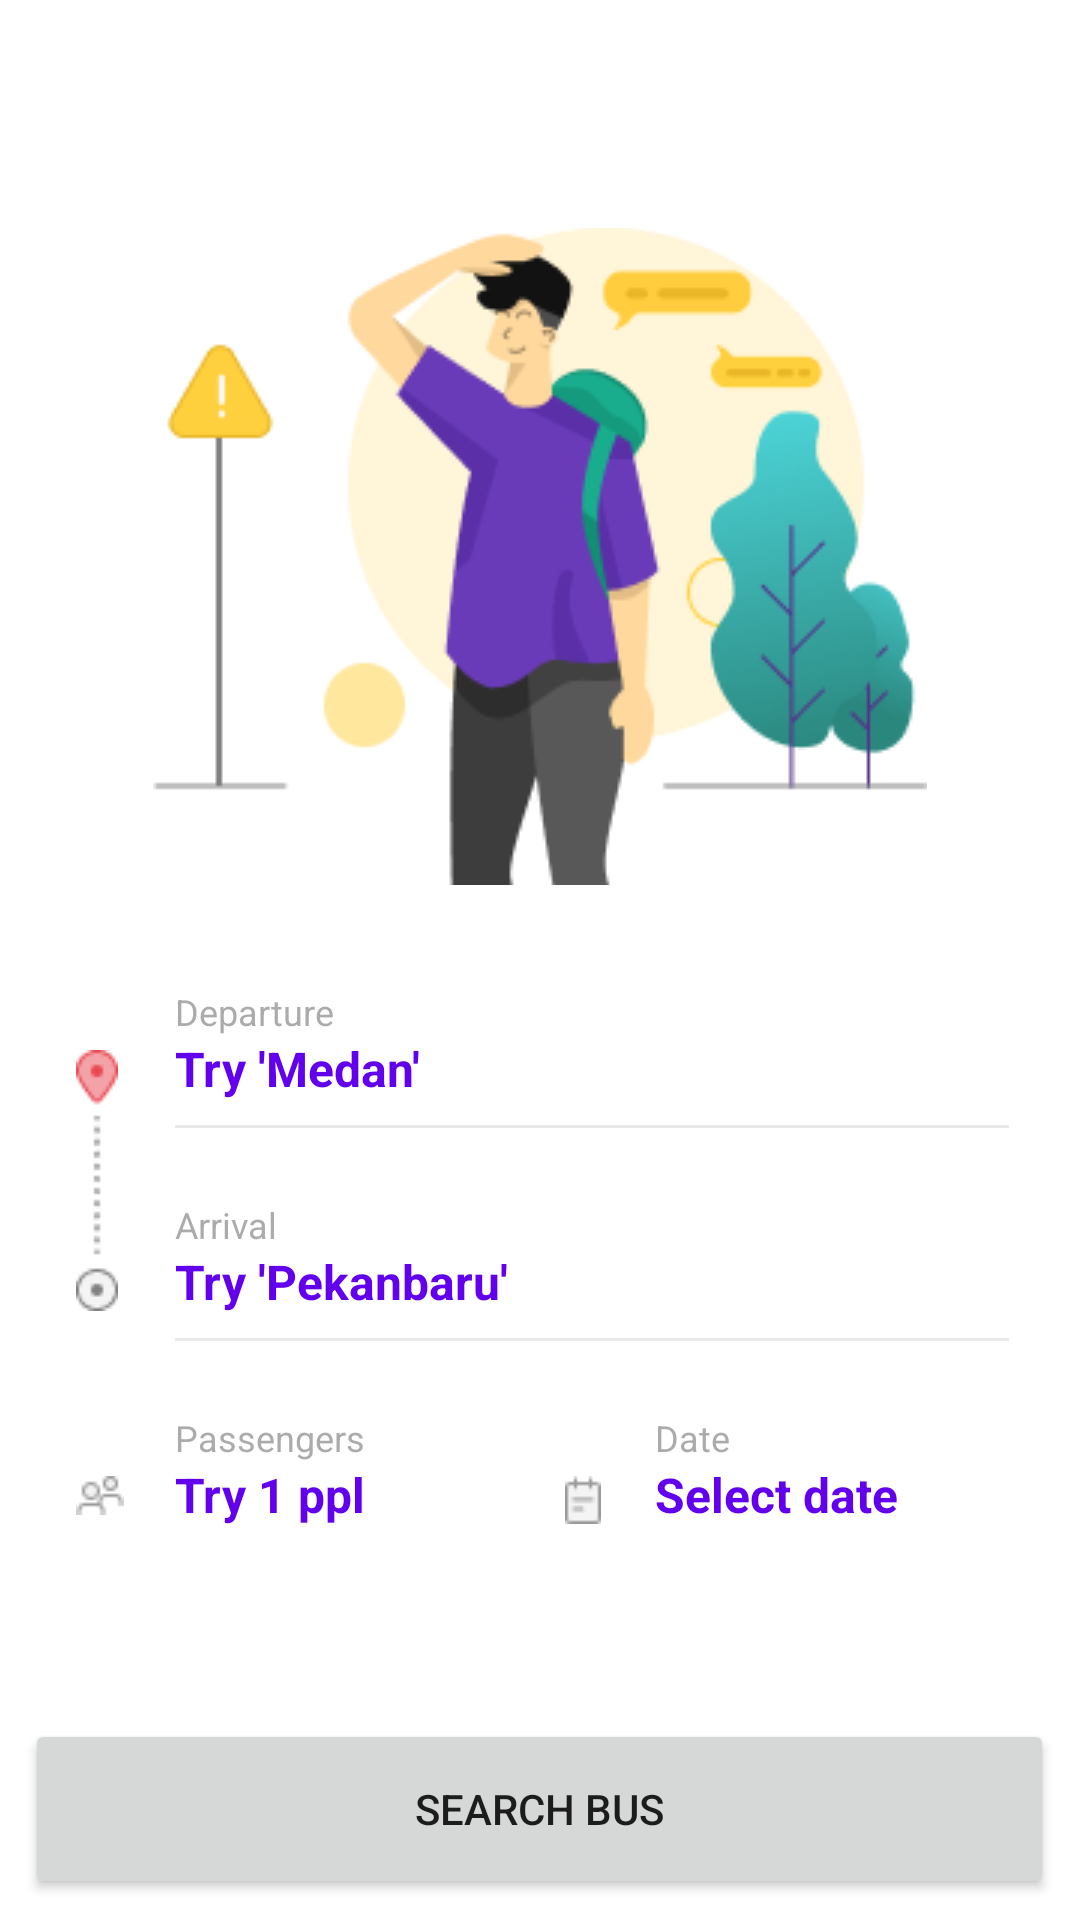

Icon bounding boxes for this 1080 × 1920 phone screenshot, format (x1, y1, x2, y2):
orang: (76, 1476, 124, 1515)
